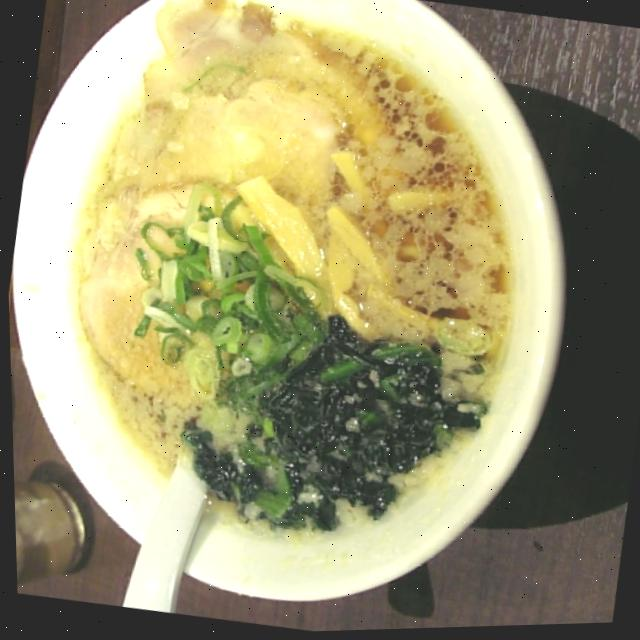面条主食: (21, 0, 571, 573)
